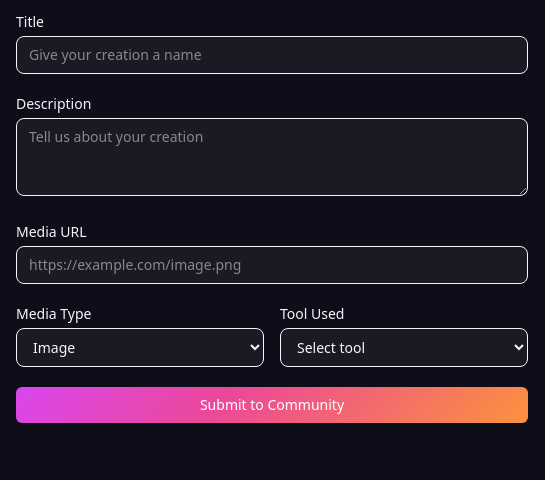
SubmitForm › shows error when submitting with empty fields
The image size is (545, 480).
Step 1. Click the button "Submit to Community" → click(272, 405), box [16,387,528,423]
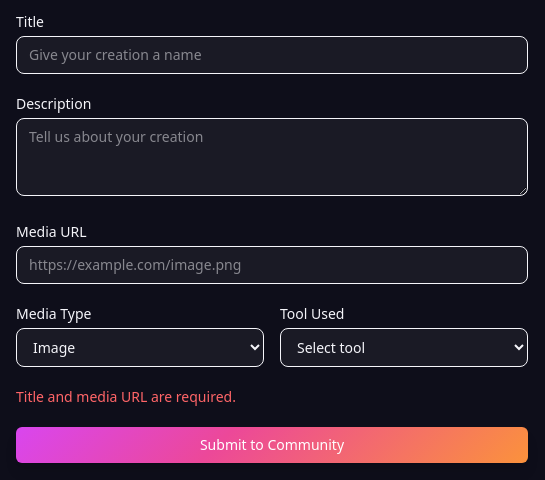
Expected: the text "Title and media URL are required." is shown, [16,387,236,406]
